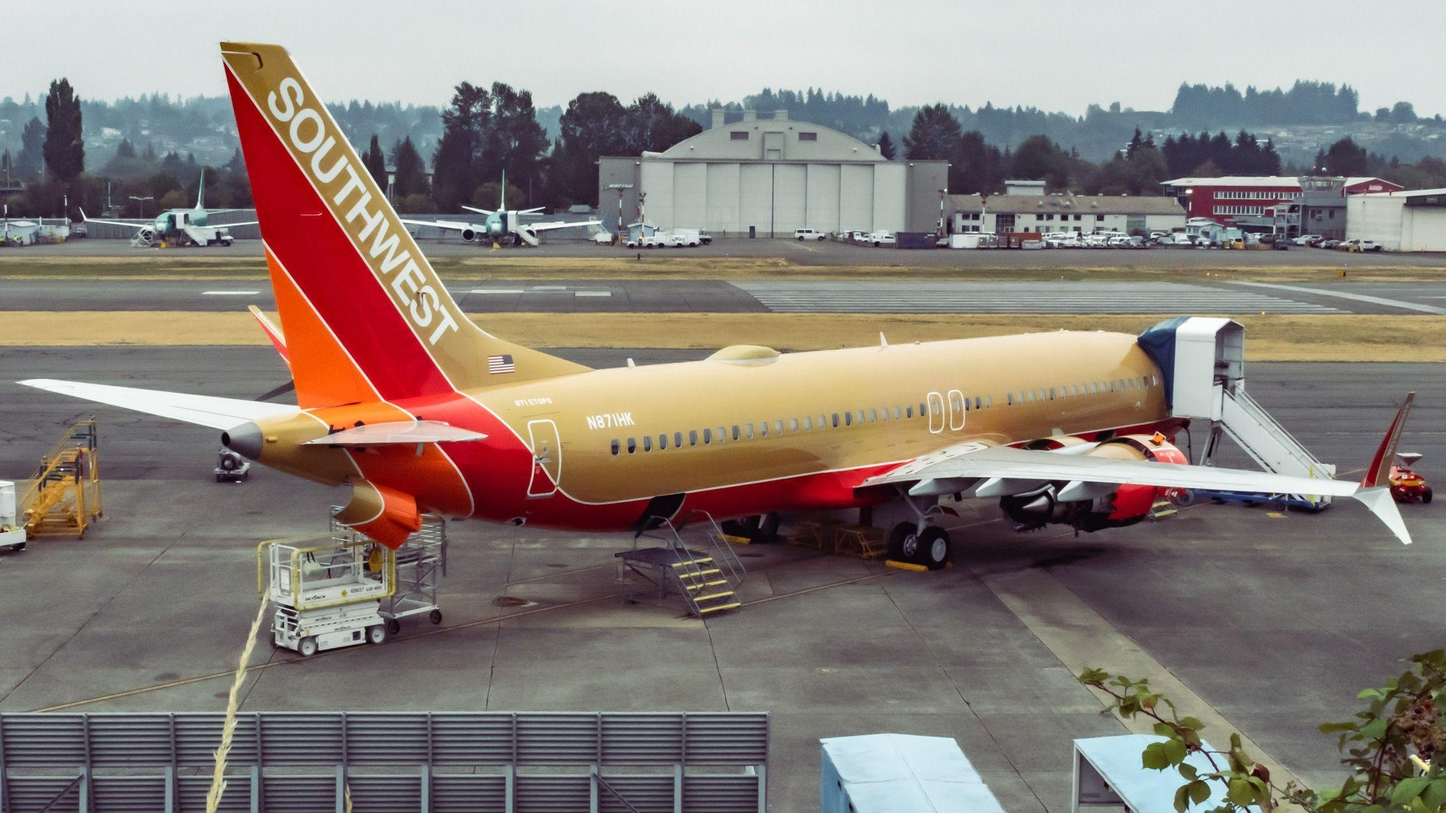aircraft: (3, 42, 1384, 561)
